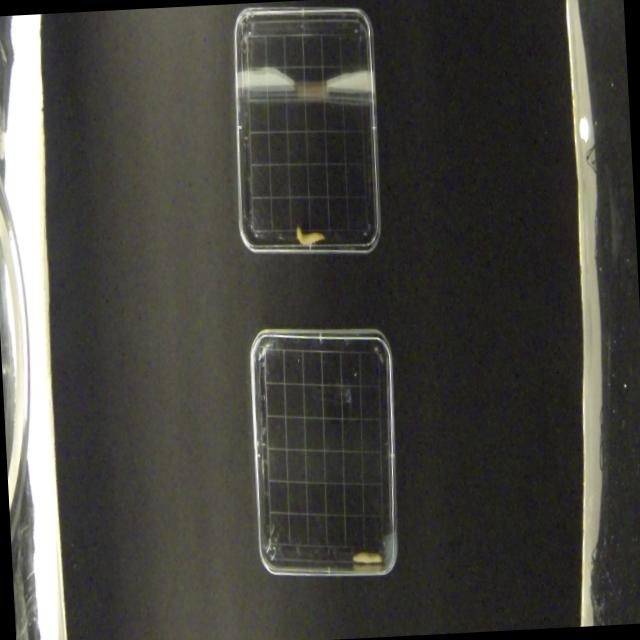larva: (350, 537, 386, 569), (295, 224, 325, 247)
